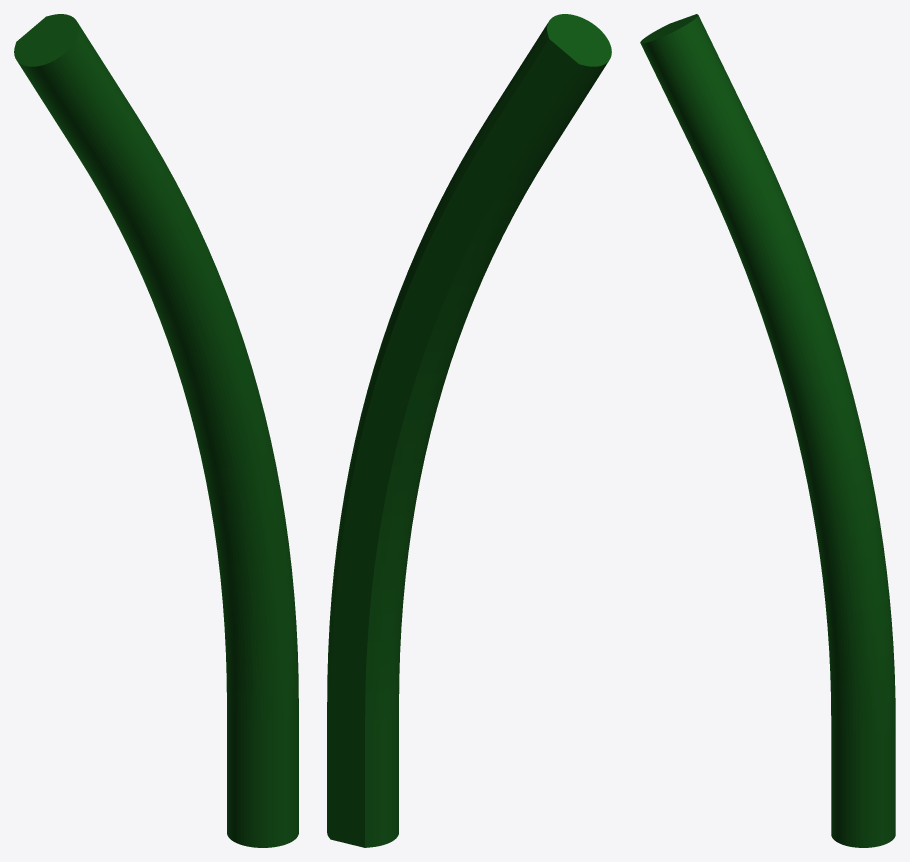
The model's file is stem_3B_30_L.glb.
3 renders of one model, left to right at view 1: azimuth 30°, elevation 25°; view 2: azimuth 150°, elevation 25°; view 3: azimuth 330°, elevation 25°, orthographic. The views are drawn at different scales.
Parts seen in each view (by area): view 1: stem_3B_30_L; view 2: stem_3B_30_L; view 3: stem_3B_30_L.
Boxes of the visible parts, x1,y1,x2,y2 form: stem_3B_30_L: [14, 14, 298, 847]; stem_3B_30_L: [327, 14, 611, 847]; stem_3B_30_L: [640, 14, 895, 847].
Size of the model in its own units: 0.0317 by 0.0951 by 0.00666.
